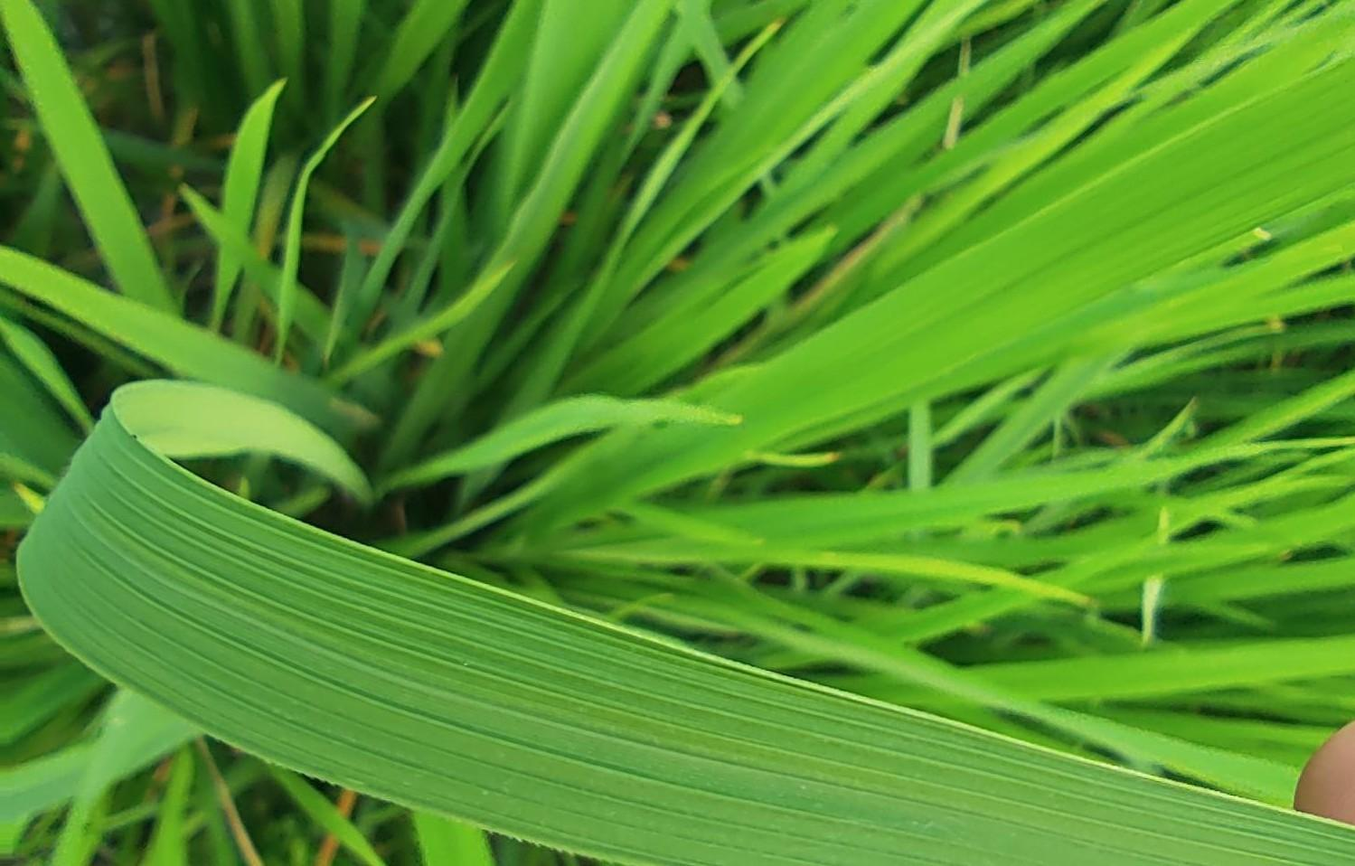Healthy: (16, 381, 1354, 865)
